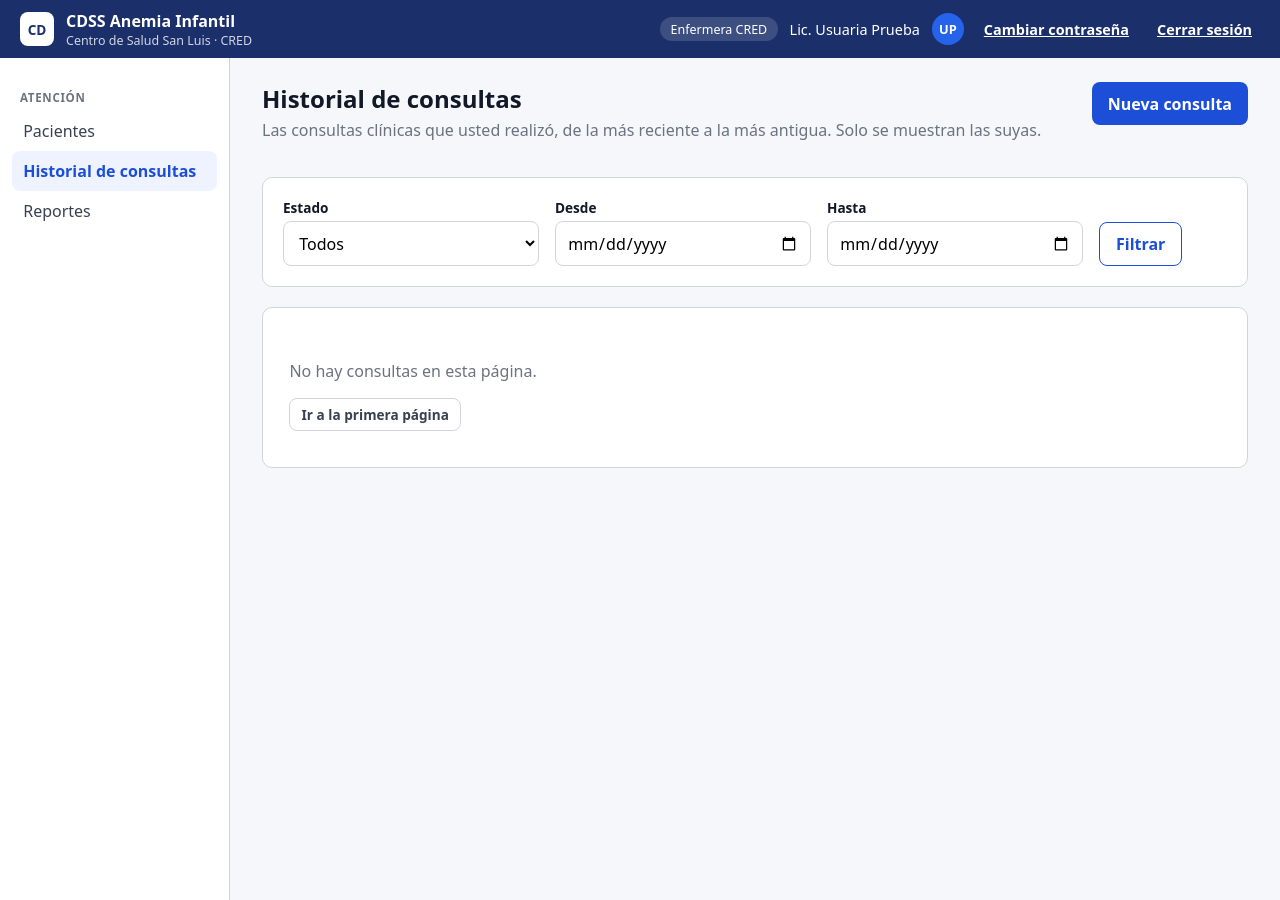
it: Historial de consultas · carga, vacío y error › una página fuera de rango ofrece volver a la primera
This screenshot has width=1280, height=900.
Click the button "Ir a la primera página" at (375, 414), box x1=289 y1=398 x2=461 y2=431
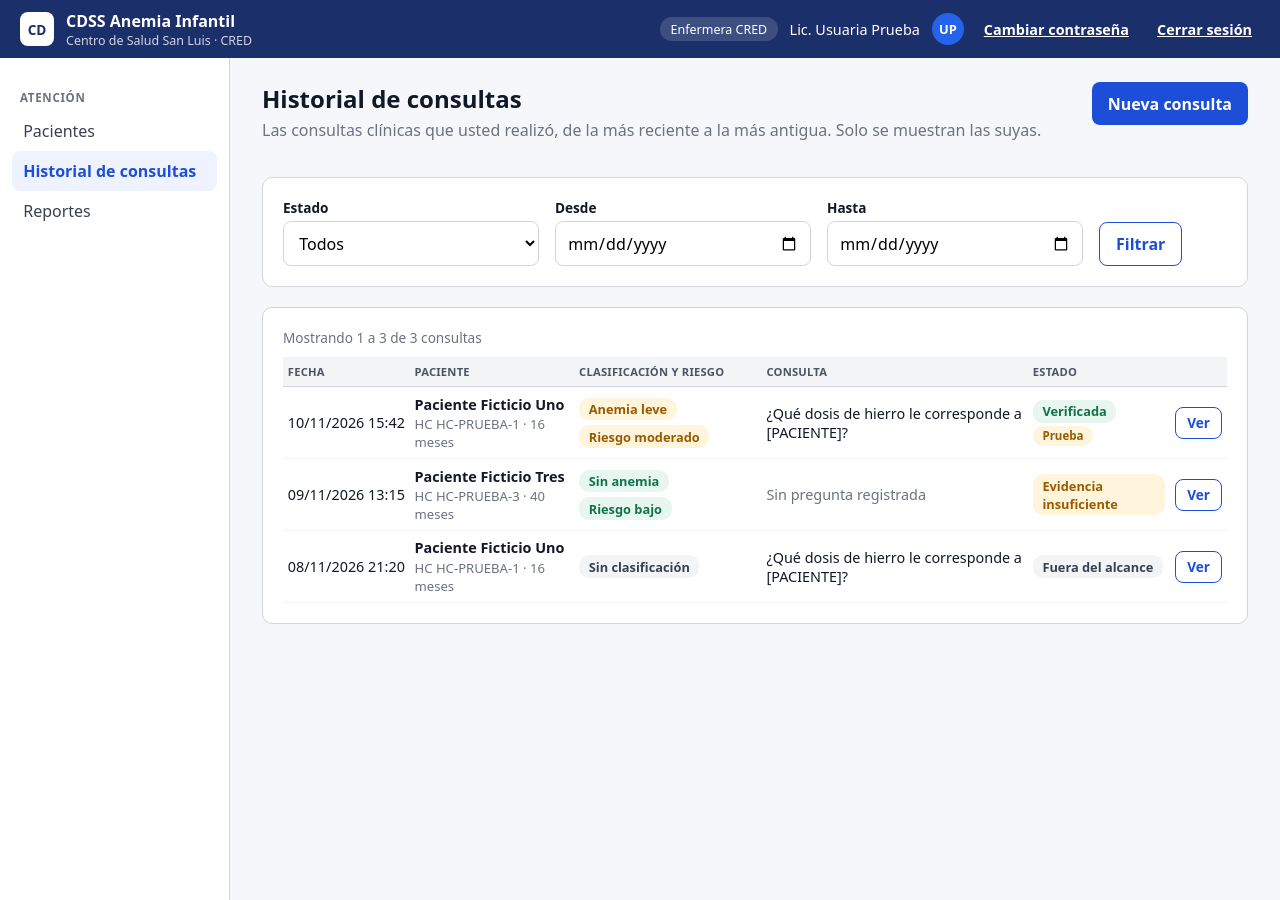
Check: the element named "Consultas realizadas" is shown, box x1=283 y1=357 x2=1227 y2=603
